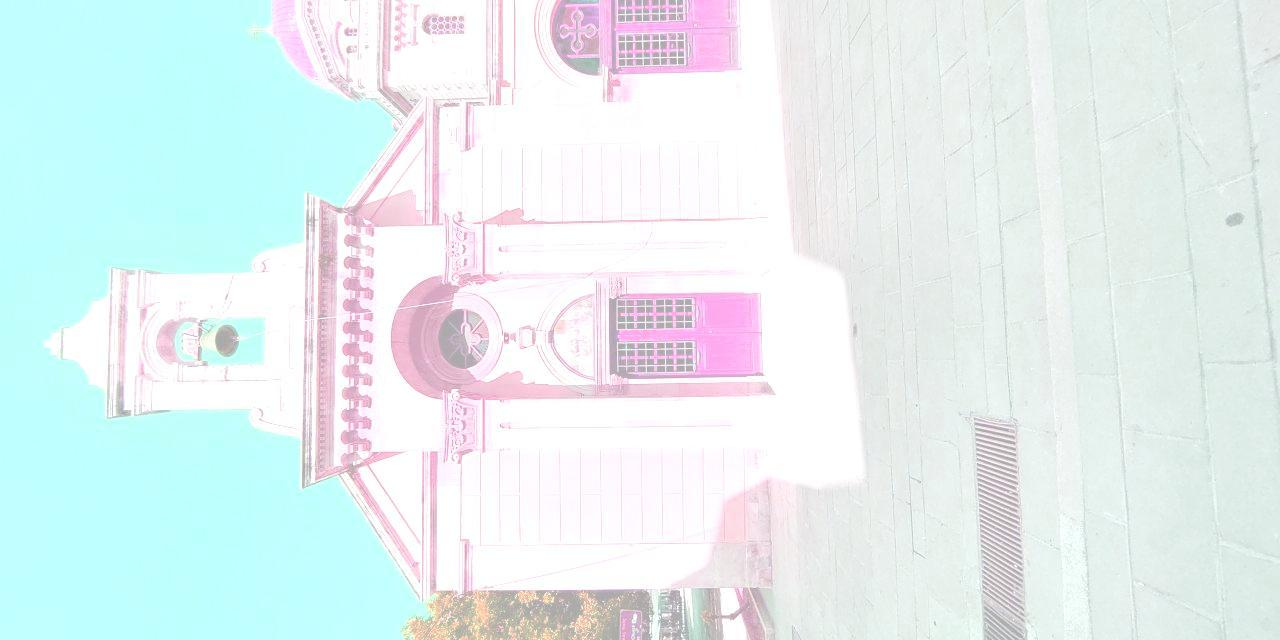Agios Minas: (9, 6, 577, 640)
